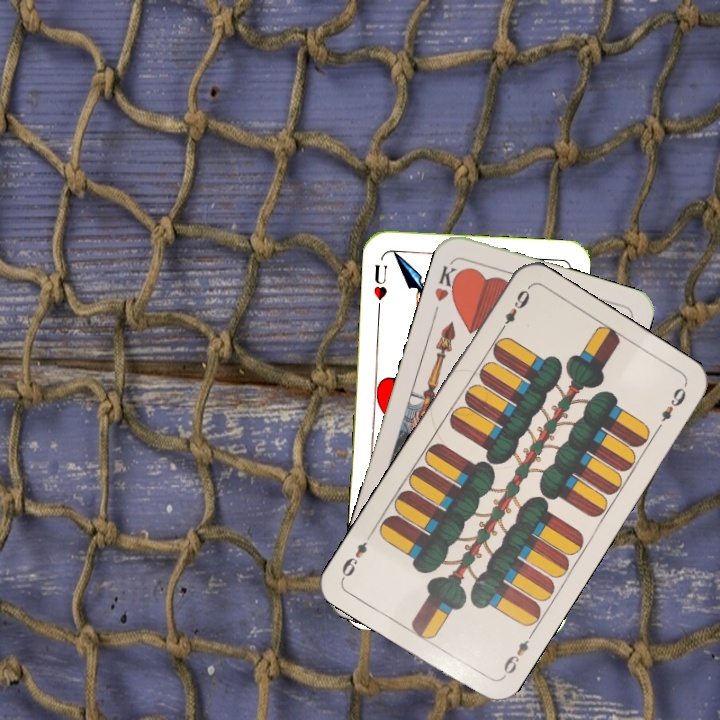E9: (494, 284, 533, 337), (497, 629, 536, 682)
HK: (430, 261, 464, 304)
HU: (369, 260, 390, 314)
